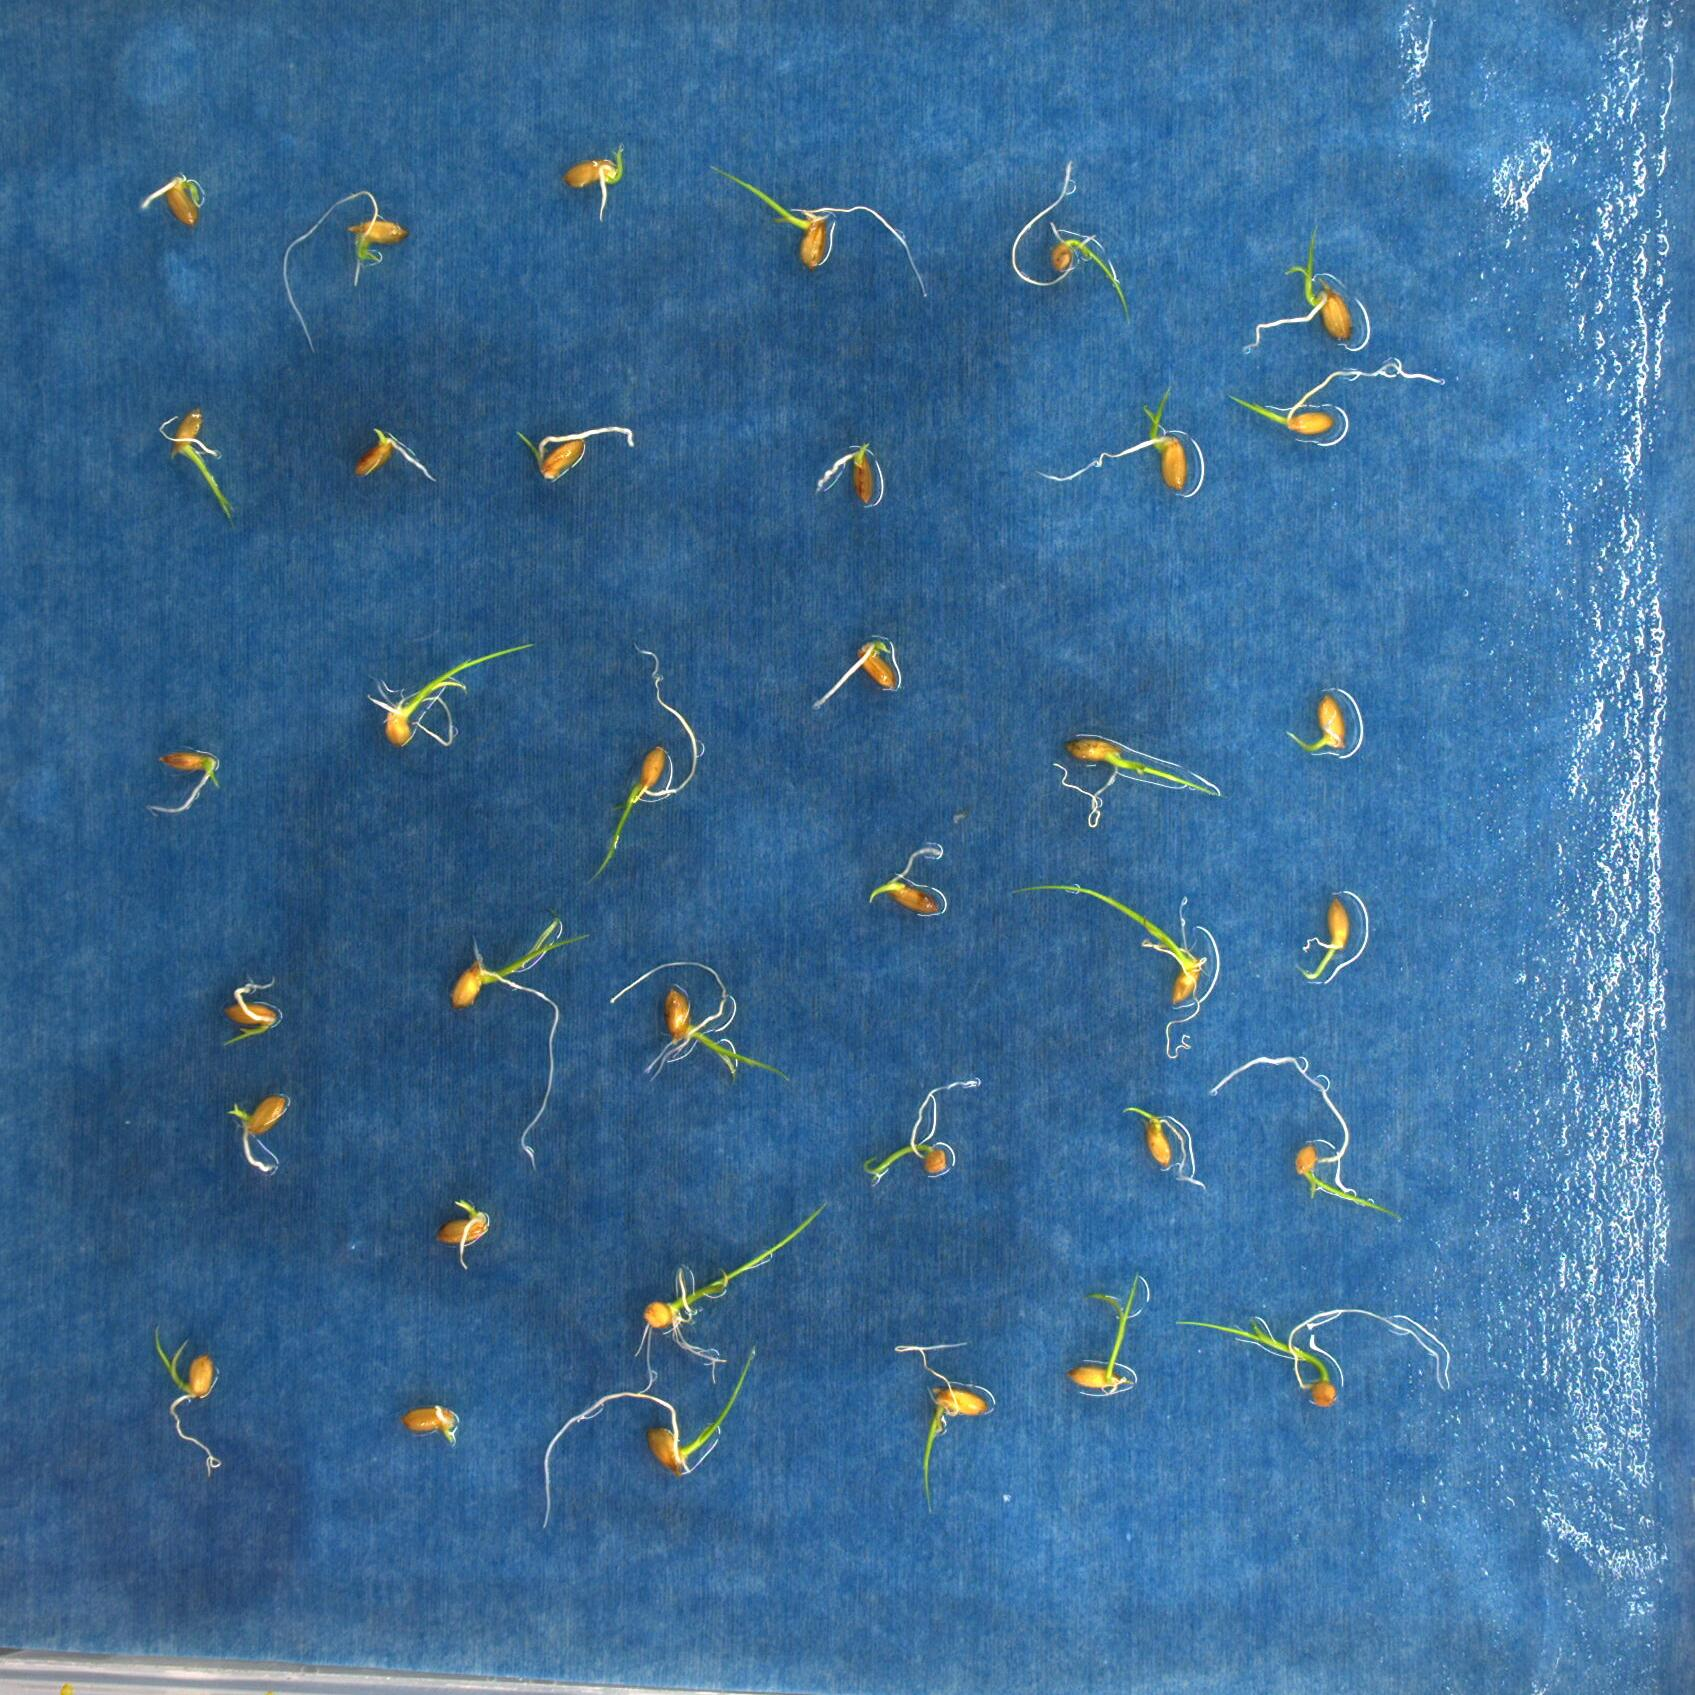not sprout: (806, 633, 894, 706), (224, 1093, 293, 1177), (818, 433, 882, 504), (154, 750, 217, 809), (357, 432, 428, 480), (404, 1399, 459, 1444)
sprout: (1189, 1040, 1411, 1223), (543, 1350, 761, 1537), (447, 913, 594, 1169), (633, 1201, 827, 1392), (1018, 885, 1211, 1055), (712, 152, 927, 293), (1173, 1304, 1444, 1411), (584, 646, 698, 888), (607, 961, 792, 1090), (1007, 158, 1138, 326), (286, 194, 407, 345), (888, 1340, 986, 1518), (366, 644, 529, 750), (1037, 380, 1192, 489), (1248, 210, 1354, 363), (1054, 733, 1225, 827), (1225, 371, 1444, 439), (861, 1080, 970, 1187), (1063, 1277, 1147, 1400), (154, 1319, 217, 1468), (157, 411, 237, 525), (1119, 1101, 1205, 1187), (863, 844, 950, 920), (514, 421, 636, 473), (560, 144, 624, 220), (1287, 681, 1350, 756), (1295, 896, 1350, 979), (217, 979, 281, 1049), (143, 169, 211, 231), (432, 1198, 489, 1267)
